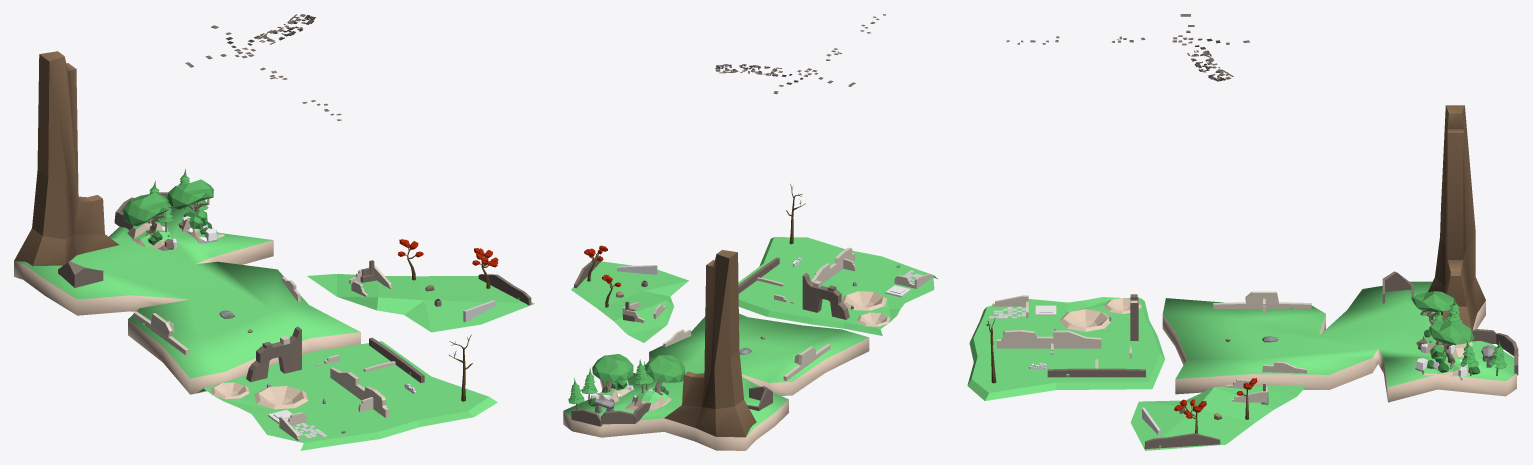
The model's file is SM_05 Ruins Village B.fbx.
The picture shows the model from 3 angles, left to right: view 1: azimuth 30°, elevation 25°; view 2: azimuth 150°, elevation 25°; view 3: azimuth 270°, elevation 25°; orthographic projection. The views are drawn at different scales.
Visible parts, largest first — view 1: Cylinder.005, Cylinder.004, canyon01.001, Plane.003, Cube.015, tree.001, tree.002, wall ruins.016, STREET_stones.001, miniForest.001, Cube.008, wall ruins.013 (+2 smaller); view 2: Cylinder.005, Cylinder.004, canyon01.001, Plane.003, Cube.015, tree.002, tree.001, miniForest.001, STREET_stones.001, wall ruins.016, wall ruins.013, Cube.008 (+3 smaller); view 3: Cylinder.005, Cylinder.004, canyon01.001, Plane.003, wall ruins.016, wall ruins.013, tree.002, wall ruins.015, STREET_stones.001, wall ruins.017, tree.001, miniForest.001.
Boxes of the visible parts, x1=… form: Cylinder.005: x1=14, y1=206, x2=360, y2=394; Cylinder.004: x1=197, y1=341, x2=497, y2=450; canyon01.001: x1=14, y1=51, x2=119, y2=266; Plane.003: x1=307, y1=274, x2=534, y2=332; Cube.015: x1=246, y1=326, x2=301, y2=381; tree.001: x1=123, y1=192, x2=169, y2=236; tree.002: x1=167, y1=179, x2=213, y2=228; wall ruins.016: x1=330, y1=367, x2=389, y2=417; STREET_stones.001: x1=185, y1=14, x2=341, y2=120; miniForest.001: x1=127, y1=217, x2=224, y2=248; Cube.008: x1=58, y1=261, x2=103, y2=287; wall ruins.013: x1=133, y1=311, x2=188, y2=355; Cylinder.005: x1=563, y1=313, x2=869, y2=450; Cylinder.004: x1=738, y1=237, x2=937, y2=335; canyon01.001: x1=664, y1=250, x2=756, y2=437; Plane.003: x1=571, y1=261, x2=688, y2=342; Cube.015: x1=802, y1=272, x2=849, y2=319; tree.002: x1=592, y1=354, x2=633, y2=395; tree.001: x1=644, y1=355, x2=685, y2=395; miniForest.001: x1=596, y1=386, x2=671, y2=410; STREET_stones.001: x1=715, y1=14, x2=886, y2=93; wall ruins.016: x1=811, y1=247, x2=855, y2=284; wall ruins.013: x1=783, y1=344, x2=830, y2=380; Cube.008: x1=747, y1=386, x2=772, y2=410; Cylinder.005: x1=1162, y1=281, x2=1516, y2=402; Cylinder.004: x1=967, y1=297, x2=1165, y2=400; canyon01.001: x1=1428, y1=105, x2=1485, y2=330; Plane.003: x1=1130, y1=385, x2=1306, y2=450; wall ruins.016: x1=996, y1=330, x2=1101, y2=348; wall ruins.013: x1=1213, y1=291, x2=1311, y2=309; tree.002: x1=1429, y1=320, x2=1474, y2=369; wall ruins.015: x1=1047, y1=368, x2=1145, y2=377; STREET_stones.001: x1=1006, y1=14, x2=1249, y2=81; wall ruins.017: x1=1144, y1=433, x2=1220, y2=449; tree.001: x1=1412, y1=291, x2=1454, y2=324; miniForest.001: x1=1422, y1=335, x2=1472, y2=376.
Bounding box in the file's own units: 6050 × 5278 × 8702.
